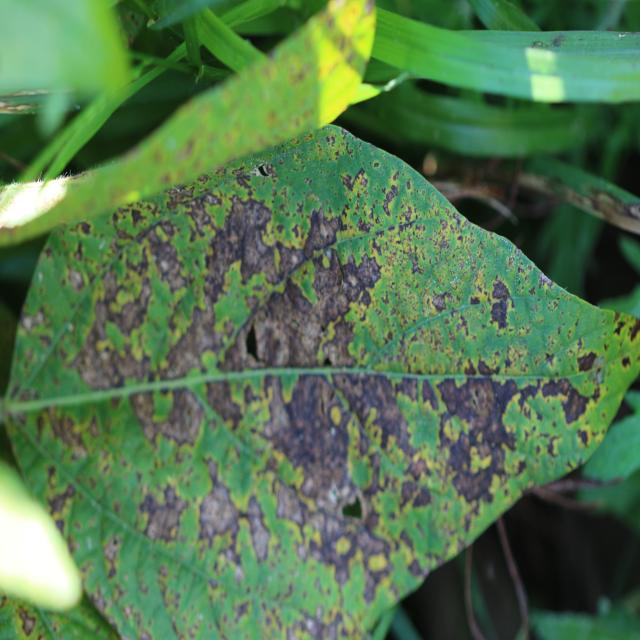Bacterial_Blight: (200, 484, 348, 634), (11, 234, 110, 394), (107, 201, 222, 267), (386, 486, 471, 567), (571, 326, 640, 413), (324, 230, 399, 307), (157, 559, 226, 640), (473, 271, 543, 337), (435, 374, 505, 430), (420, 214, 471, 277), (147, 453, 202, 501), (200, 374, 245, 432), (211, 278, 252, 333), (83, 596, 128, 638), (148, 306, 175, 371), (408, 410, 441, 454), (274, 480, 301, 527), (347, 449, 373, 490), (323, 246, 345, 292), (419, 378, 441, 413), (151, 391, 174, 422), (299, 270, 317, 304), (21, 308, 45, 333), (612, 315, 633, 342), (65, 265, 85, 293), (280, 371, 299, 398), (120, 190, 141, 206), (576, 426, 591, 447), (233, 563, 246, 584), (356, 216, 371, 234), (537, 273, 553, 289), (398, 219, 414, 233), (551, 34, 566, 46)
Soybean: (0, 124, 640, 640)
